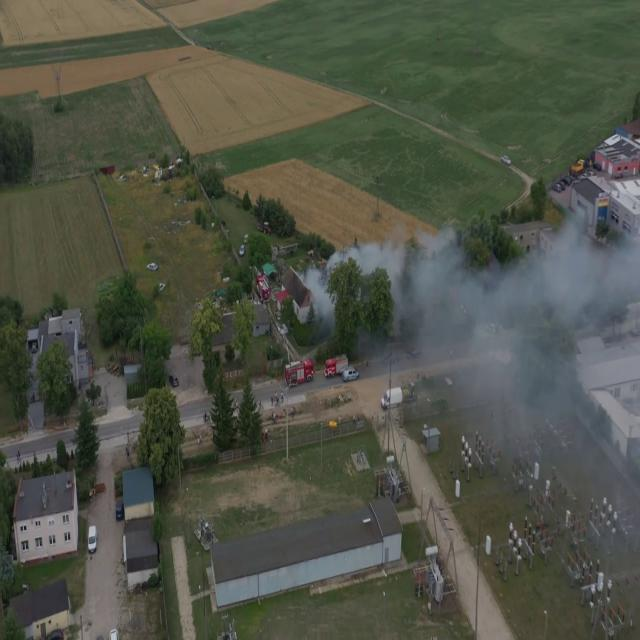Smoke: (302, 188, 640, 384)
